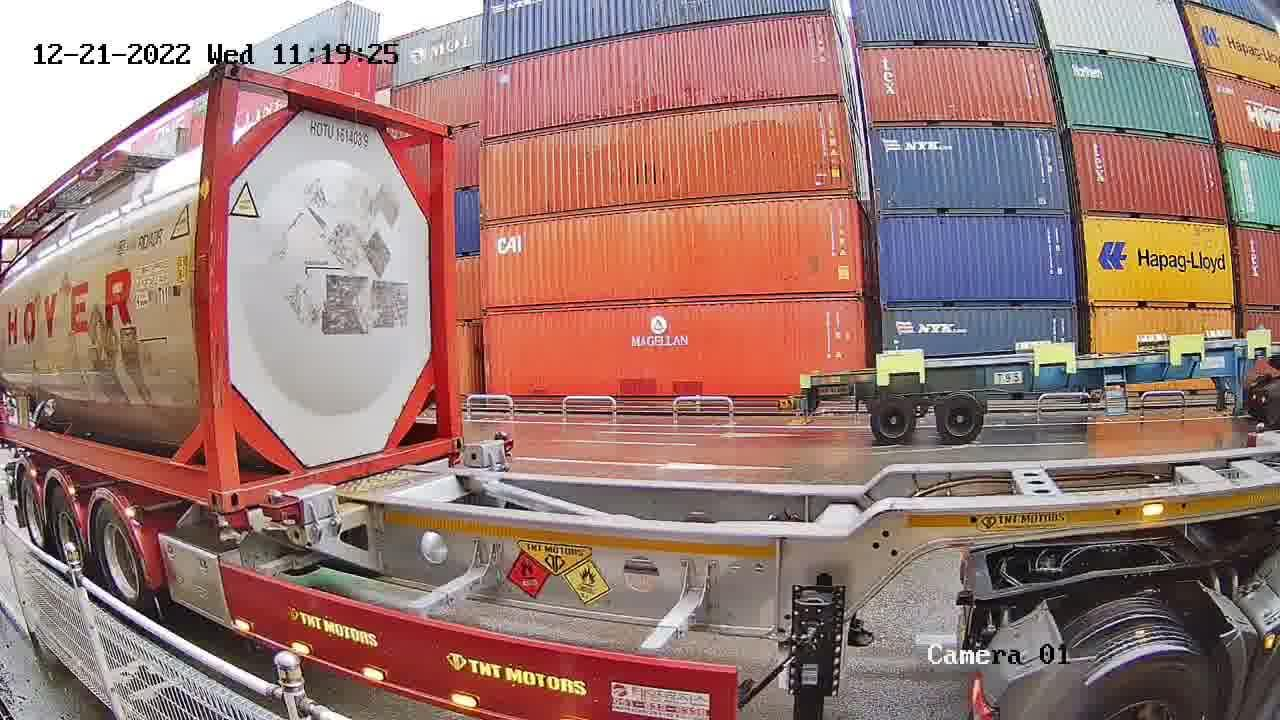Cone: (209, 508, 250, 547)
Hole_L: (220, 457, 265, 512)
Hole_R: (176, 451, 223, 512), (429, 419, 464, 459)
Tire: (92, 503, 147, 612), (48, 494, 88, 584), (19, 481, 46, 549)
